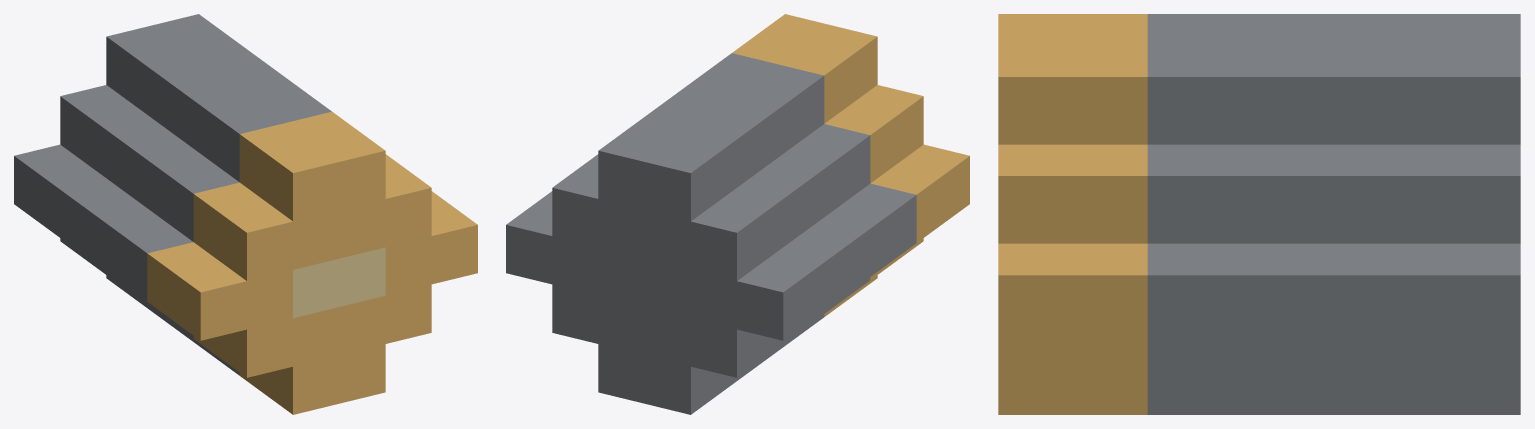
The model's file is emitter.glb.
3 renders of one model, left to right at view 1: azimuth 30°, elevation 25°; view 2: azimuth 150°, elevation 25°; view 3: azimuth 270°, elevation 25°, orthographic. The views are drawn at different scales.
Size of the model in its own units: 6 by 5 by 7.
